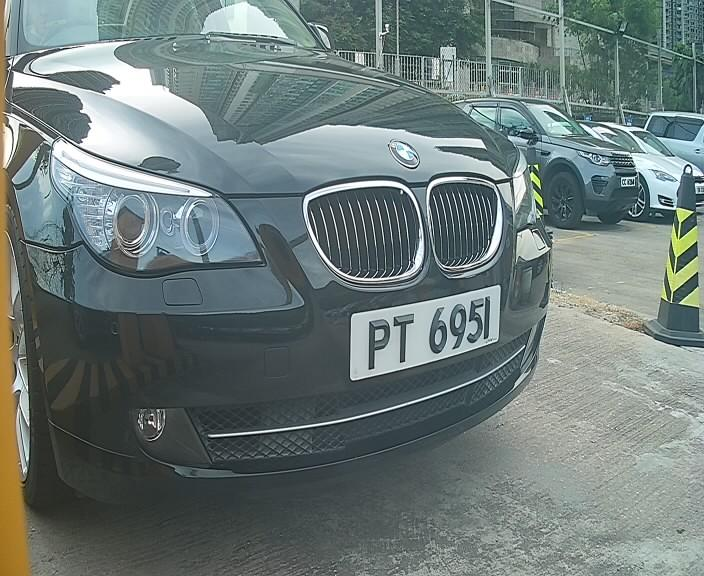License Plate: (340, 278, 507, 384)
